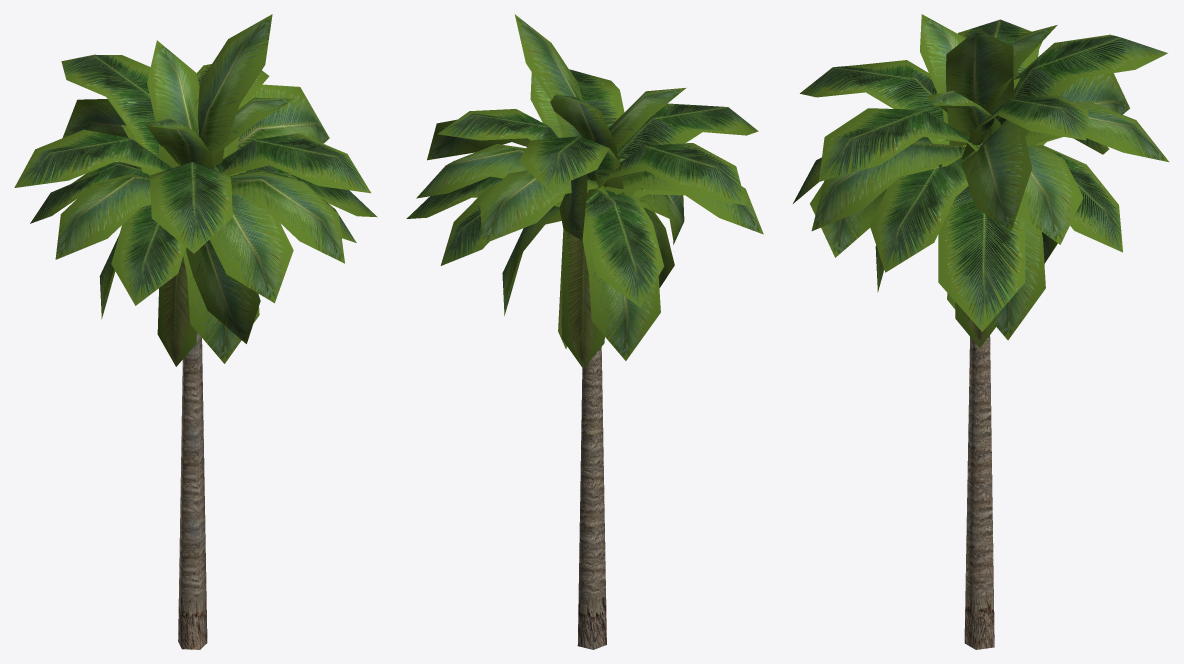
Rendered from palm.obj.
3 renders of one model, left to right at view 1: azimuth 30°, elevation 25°; view 2: azimuth 150°, elevation 25°; view 3: azimuth 270°, elevation 25°, orthographic. The views are drawn at different scales.
Parts seen in each view (by area): view 1: branches, trunk; view 2: branches, trunk; view 3: branches, trunk.
Part boxes in pixels (x1,y1,x2,y2): branches: (14,14,377,366); trunk: (178,332,207,649); branches: (406,14,763,368); trunk: (577,347,606,649); branches: (793,14,1169,347); trunk: (964,143,994,649).
Bounding box in the file's own units: 65.82 × 109 × 56.92.
2 materials, 2 textured.
